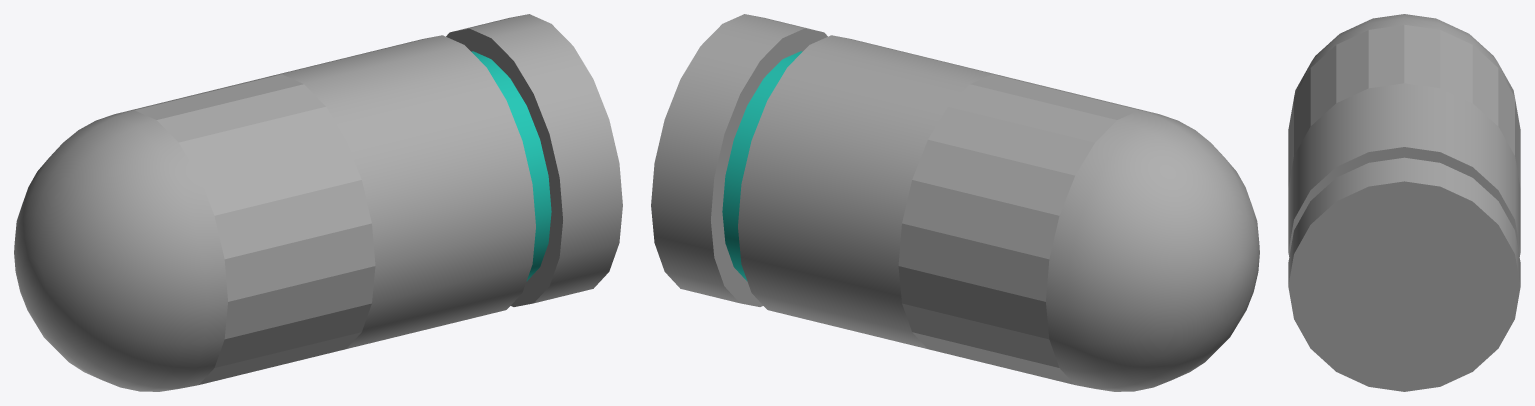
Rendered from bullet.fbx.
3 renders of one model, left to right at view 1: azimuth 30°, elevation 25°; view 2: azimuth 150°, elevation 25°; view 3: azimuth 270°, elevation 25°, orthographic. The views are drawn at different scales.
Visible parts, largest first — view 1: Bullet; view 2: Bullet; view 3: Bullet.
Part boxes in pixels (x1,y1,x2,y2): Bullet: [14, 14, 622, 391]; Bullet: [651, 14, 1259, 391]; Bullet: [1288, 14, 1520, 391].
Size of the model in its own units: 4.19 by 2 by 2.
